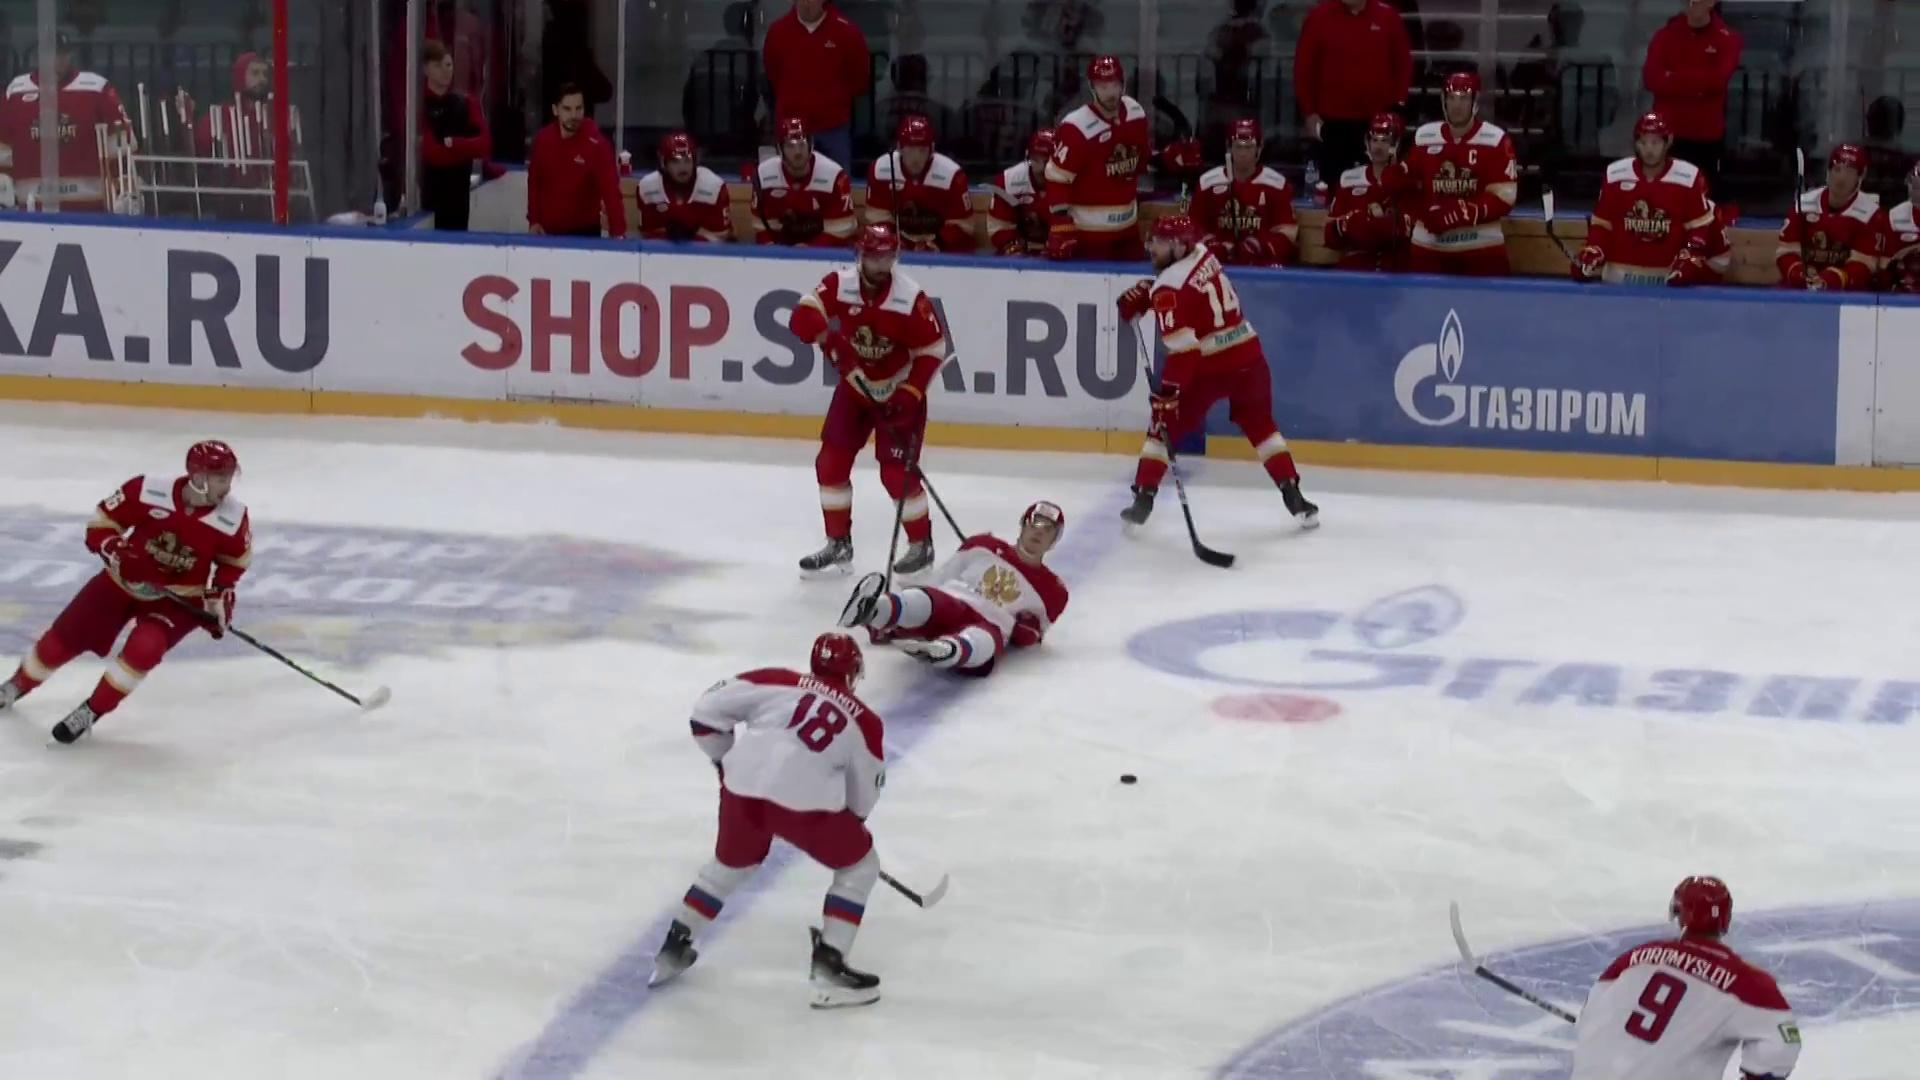ball: (1113, 773, 1145, 787)
